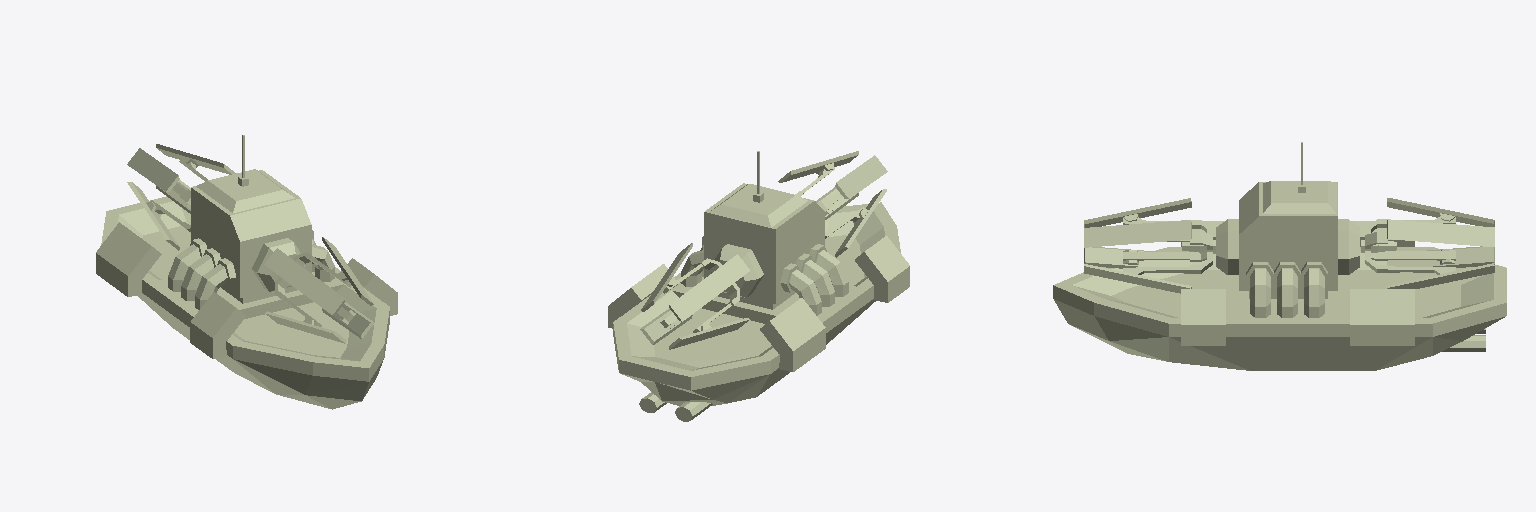
The model's file is armsjam.obj.
The picture shows the model from 3 angles: view 1: azimuth 30°, elevation 25°; view 2: azimuth 150°, elevation 25°; view 3: azimuth 270°, elevation 25°; orthographic projection.
Visible parts, largest first — view 1: base,ox=-0.00,oy=1.00,oz=0.00,p=ground,, fork1,ox=-0.00,oy=9.95,oz=8.27,p=base,, fork2,ox=-0.00,oy=10.26,oz=-11.33,p=base,; view 2: base,ox=-0.00,oy=1.00,oz=0.00,p=ground,, fork2,ox=-0.00,oy=10.26,oz=-11.33,p=base,, fork1,ox=-0.00,oy=9.95,oz=8.27,p=base,; view 3: base,ox=-0.00,oy=1.00,oz=0.00,p=ground,, fork2,ox=-0.00,oy=10.26,oz=-11.33,p=base,, fork1,ox=-0.00,oy=9.95,oz=8.27,p=base,.
Boxes of the visible parts, x1,y1,x2,y2 form: base,ox=-0.00,oy=1.00,oz=0.00,p=ground,: [96, 135, 397, 409]; fork1,ox=-0.00,oy=9.95,oz=8.27,p=base,: [264, 237, 373, 343]; fork2,ox=-0.00,oy=10.26,oz=-11.33,p=base,: [127, 144, 235, 250]; base,ox=-0.00,oy=1.00,oz=0.00,p=ground,: [608, 151, 909, 421]; fork2,ox=-0.00,oy=10.26,oz=-11.33,p=base,: [640, 243, 749, 349]; fork1,ox=-0.00,oy=9.95,oz=8.27,p=base,: [778, 151, 887, 257]; base,ox=-0.00,oy=1.00,oz=0.00,p=ground,: [1053, 142, 1506, 370]; fork2,ox=-0.00,oy=10.26,oz=-11.33,p=base,: [1361, 198, 1494, 288]; fork1,ox=-0.00,oy=9.95,oz=8.27,p=base,: [1084, 198, 1215, 293].
Bounding box in the file's own units: 28.29 × 32.83 × 59.93.